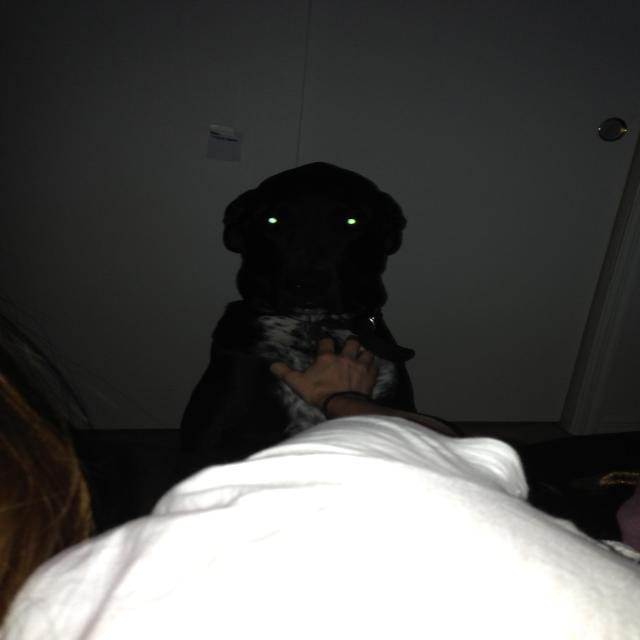People: (45, 404, 640, 640)
dog: (184, 142, 536, 422)
